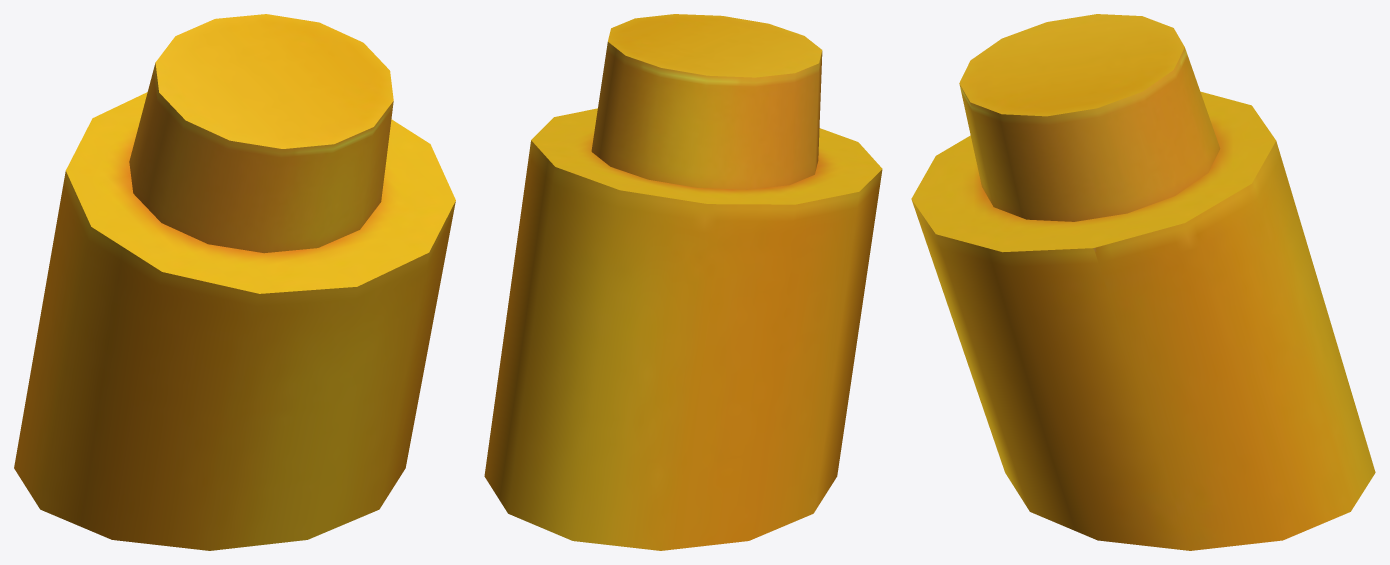
File: zhishengji07.FBX
3 renders of one model, left to right at view 1: azimuth 30°, elevation 25°; view 2: azimuth 150°, elevation 25°; view 3: azimuth 270°, elevation 25°, orthographic. The views are drawn at different scales.
Parts seen in each view (by area): view 1: zhishengji07; view 2: zhishengji07; view 3: zhishengji07.
Boxes of the visible parts, x1,y1,x2,y2 form: zhishengji07: [14, 14, 455, 550]; zhishengji07: [484, 14, 882, 550]; zhishengji07: [911, 14, 1375, 550].
Bounding box in the file's own units: 6.74 × 8.56 × 8.44.
